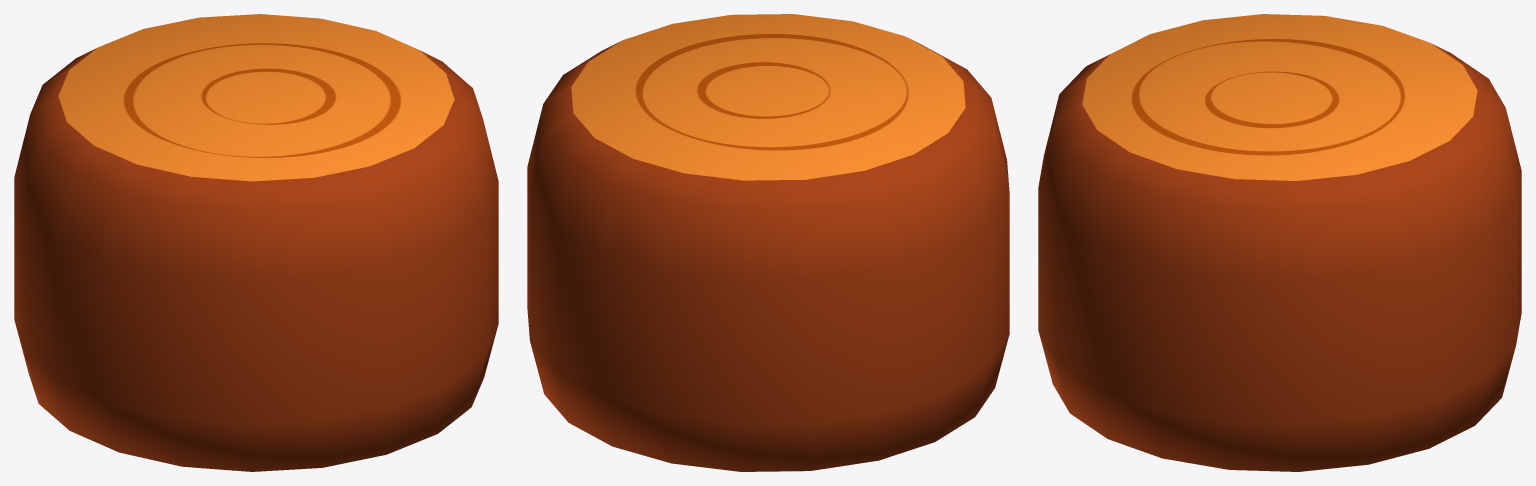
The model's file is Stool2.fbx.
The picture shows the model from 3 angles, left to right: view 1: azimuth 30°, elevation 25°; view 2: azimuth 150°, elevation 25°; view 3: azimuth 270°, elevation 25°; orthographic projection.
Visible parts, largest first — view 1: Log; view 2: Log; view 3: Log.
Part boxes in pixels (left/top/right/bottom): Log: left=14, top=14, right=498, bottom=471; Log: left=527, top=14, right=1009, bottom=471; Log: left=1038, top=14, right=1521, bottom=471.
Size of the model in its own units: 1.06 by 0.734 by 1.06.
1 material, 1 textured.
